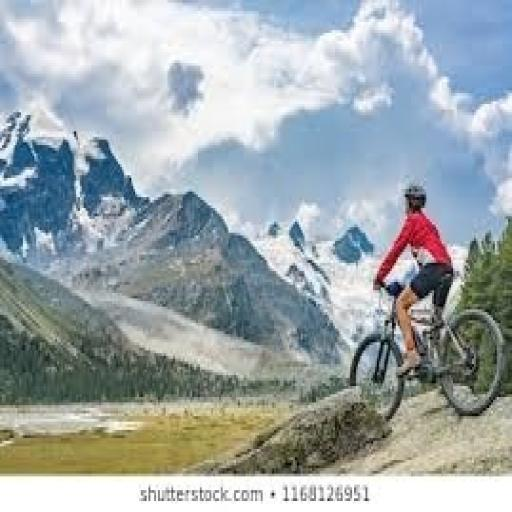cycling: (371, 178, 457, 381)
